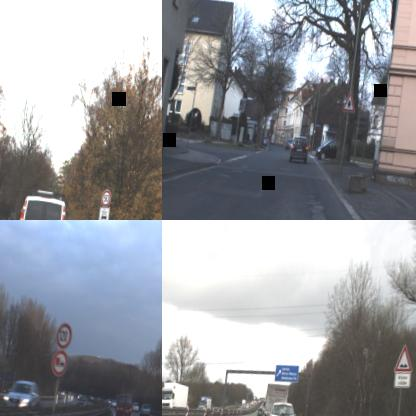no overtaking -trucks-: (49, 347, 69, 377)
priority at next intersection: (340, 90, 358, 112)
speed limit 120: (54, 321, 73, 350)
speed limit 50: (99, 187, 112, 208)
uneven road: (393, 342, 415, 374)
